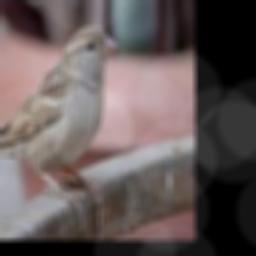Sparrow: (0, 25, 121, 210)
